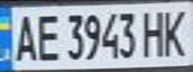3: (60, 9, 84, 61), (118, 8, 142, 59)
4: (100, 9, 121, 60)
9: (81, 10, 103, 61)
A: (9, 9, 39, 63)
E: (33, 9, 63, 62)
H: (139, 7, 169, 57)
K: (157, 5, 193, 57)
